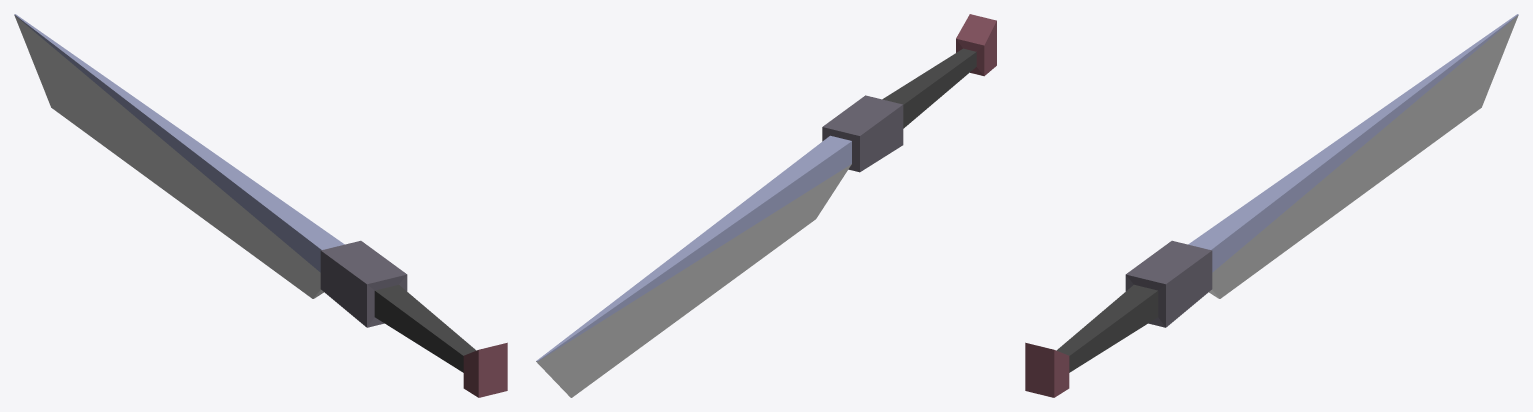
Rendered from Res01_Knife3.fbx.
3 views of the same model, side by side, from view 1: azimuth 30°, elevation 25°; view 2: azimuth 150°, elevation 25°; view 3: azimuth 330°, elevation 25° (orthographic). The views are drawn at different scales.
Parts seen in each view (by area): view 1: Res01_Knife3; view 2: Res01_Knife3; view 3: Res01_Knife3.
Boxes of the visible parts, x1,y1,x2,y2 form: Res01_Knife3: (14, 14, 507, 397); Res01_Knife3: (536, 14, 996, 397); Res01_Knife3: (1025, 14, 1518, 397).
Size of the model in its own units: 4.25 by 8.49 by 87.24.
